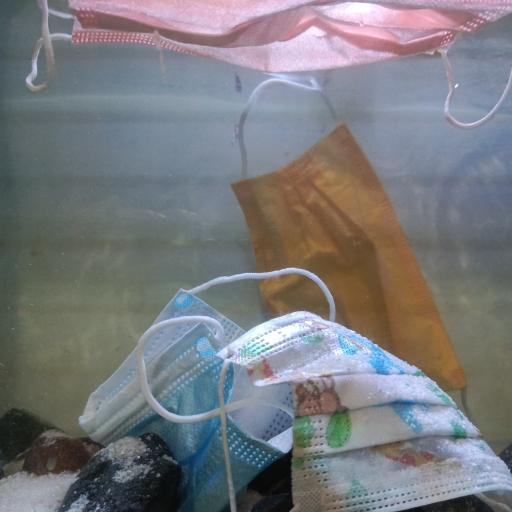mask: (229, 77, 469, 395), (76, 267, 338, 512), (27, 0, 512, 131), (213, 310, 512, 512)
